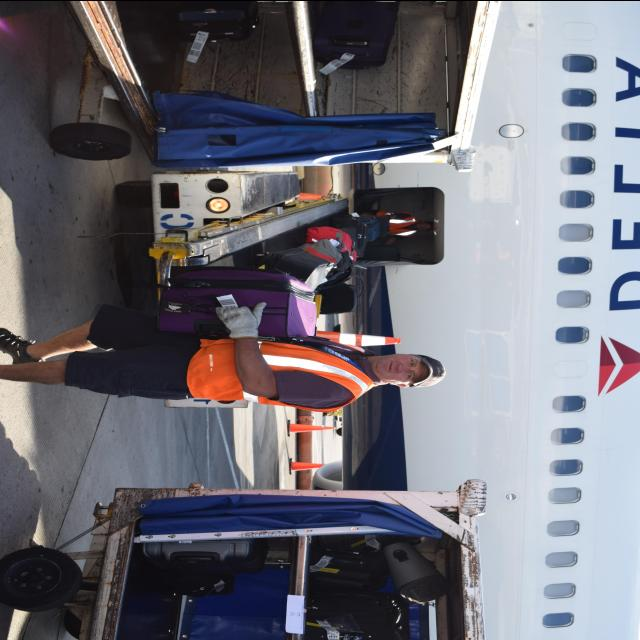jacket: (183, 325, 379, 413)
